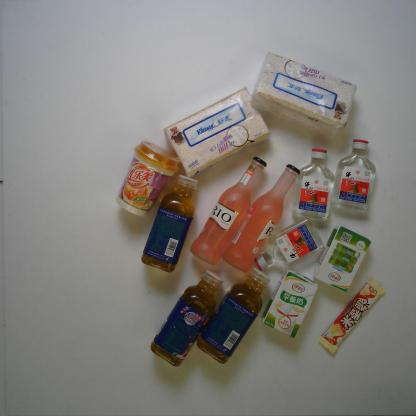Alcohol: (218, 161, 304, 276), (187, 154, 271, 267), (252, 211, 327, 273), (329, 136, 379, 216), (287, 146, 336, 224)
Chocolate: (316, 276, 386, 359)
Drink: (148, 265, 228, 369), (194, 264, 272, 366), (140, 172, 202, 274)
Instant Drink: (113, 135, 184, 221)
Milk: (258, 266, 322, 340), (309, 222, 374, 294)
Tissue: (162, 83, 274, 181), (247, 48, 360, 142)
